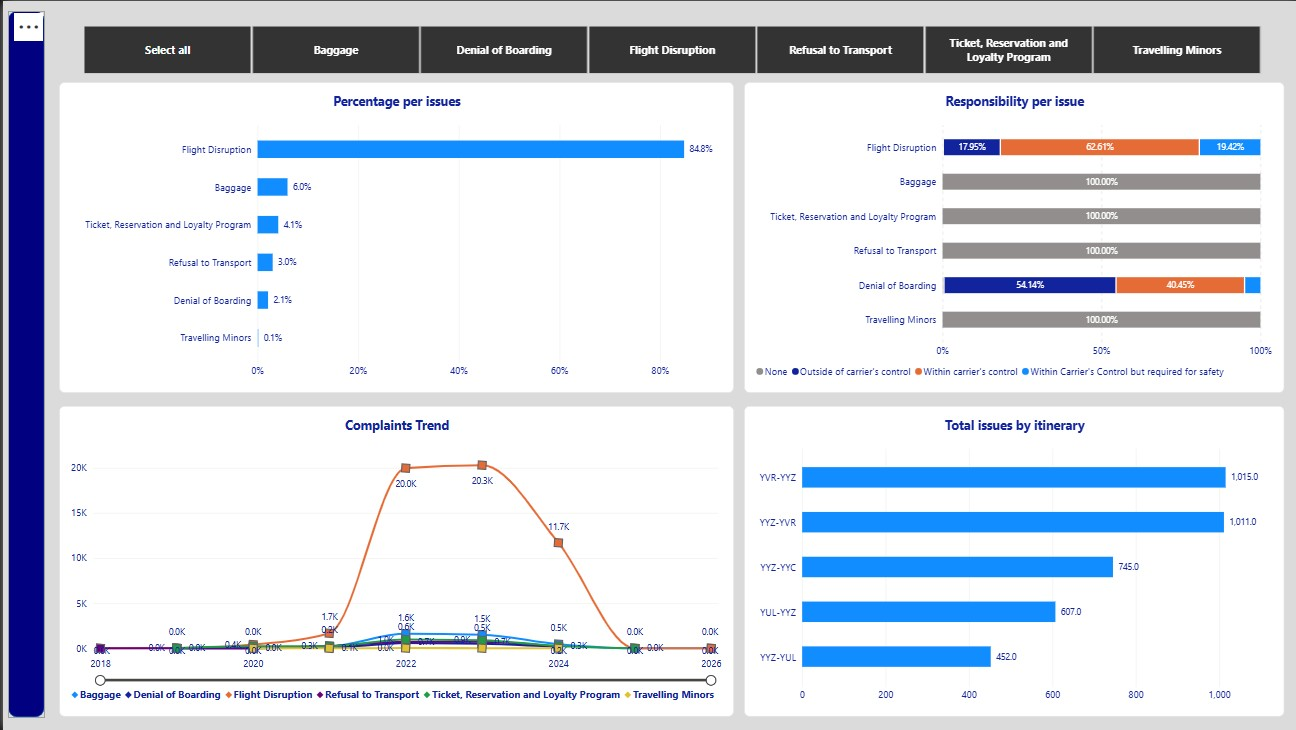

Layout of this report page (visuals, bound fields, positions):
{"tool":"powerbi","page":{"name":"Complaint Analysis","canvas":[1920,1080],"ordinal":1},"visuals":[{"type":"lineChart","title":"Complaints Trend","fields":{"Category":["Calendar.Year"],"Series":["issuescategory.issue"],"Y":["Key Measures.Total issues"]},"box":[83.2,600.8,998.9,459.7],"z":0},{"type":"clusteredBarChart","title":"Total issues by itinerary","fields":{"Category":["itinerary_table.itinerary"],"Y":["Key Measures.Total issues"]},"box":[1098.5,600.8,799.9,459.7],"z":1000},{"type":"slicer","title":"Issue","fields":{"Values":["issuescategory.issue"]},"box":[83.6,14.5,1814.5,107.3],"z":2000},{"type":"hundredPercentStackedBarChart","title":"Responsibility per issue","fields":{"Category":["issuescategory.issue"],"Series":["carrier_responsibility.carrierControl"],"Y":["Key Measures.Total issues"]},"box":[1098.5,121.2,799.9,459.7],"z":3000},{"type":"shape","box":[7.7,15.4,53.8,1046.2],"z":4000},{"type":"clusteredBarChart","title":"Percentage per issues","fields":{"Category":["issuescategory.issue"],"Y":["Key Measures.Issue Percentage"]},"box":[83.2,121.2,998.9,459.7],"z":5000}]}

Visuals, with their boxes on the page's 1920x1080 design canvas (x1, y1, x2, y2). These are canvas units, not pixel positions in the 1296x730 screenshot, which may show the page scaled, cropped or inside an application window:
"Complaints Trend" lineChart: crop(83, 601, 1082, 1060)
"Total issues by itinerary" clusteredBarChart: crop(1098, 601, 1898, 1060)
"Issue" slicer: crop(84, 14, 1898, 122)
"Responsibility per issue" hundredPercentStackedBarChart: crop(1098, 121, 1898, 581)
shape: crop(8, 15, 62, 1062)
"Percentage per issues" clusteredBarChart: crop(83, 121, 1082, 581)
